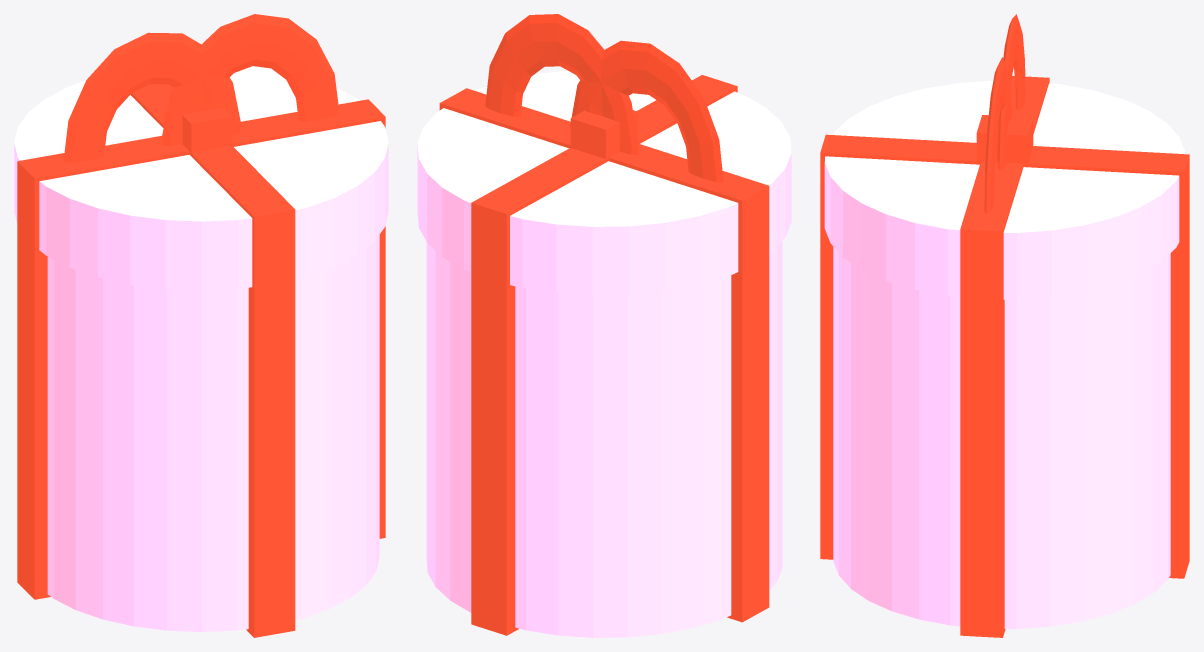
File: Tmpl_Round_Root_189.glb
The picture shows the model from 3 angles, left to right: view 1: azimuth 30°, elevation 25°; view 2: azimuth 150°, elevation 25°; view 3: azimuth 270°, elevation 25°; orthographic projection. The views are drawn at different scales.
Visible parts, largest first — view 1: Tmpl_Round_Base.187, Tmpl_Round_Lid.187, Tmpl_Round_Ribbon_Y.187, Tmpl_Round_Ribbon_X.187, Tmpl_Round_BowR.187, Tmpl_Round_BowL.187, Tmpl_Round_BowKnot.187; view 2: Tmpl_Round_Base.187, Tmpl_Round_Lid.187, Tmpl_Round_Ribbon_Y.187, Tmpl_Round_Ribbon_X.187, Tmpl_Round_BowR.187, Tmpl_Round_BowL.187, Tmpl_Round_BowKnot.187; view 3: Tmpl_Round_Base.187, Tmpl_Round_Lid.187, Tmpl_Round_Ribbon_X.187, Tmpl_Round_Ribbon_Y.187, Tmpl_Round_BowL.187, Tmpl_Round_BowR.187, Tmpl_Round_BowKnot.187.
Boxes of the visible parts, x1,y1,x2,y2 form: Tmpl_Round_Base.187: (47, 235, 379, 631); Tmpl_Round_Lid.187: (14, 66, 388, 290); Tmpl_Round_Ribbon_Y.187: (130, 84, 295, 637); Tmpl_Round_Ribbon_X.187: (17, 99, 385, 599); Tmpl_Round_BowR.187: (162, 14, 339, 145); Tmpl_Round_BowL.187: (63, 32, 240, 163); Tmpl_Round_BowKnot.187: (182, 107, 232, 155); Tmpl_Round_Base.187: (426, 241, 782, 637); Tmpl_Round_Lid.187: (417, 70, 791, 295); Tmpl_Round_Ribbon_Y.187: (471, 75, 737, 635); Tmpl_Round_Ribbon_X.187: (439, 88, 769, 622); Tmpl_Round_BowR.187: (485, 14, 638, 155); Tmpl_Round_BowL.187: (570, 40, 723, 182); Tmpl_Round_BowKnot.187: (570, 110, 638, 158); Tmpl_Round_Base.187: (833, 247, 1170, 628); Tmpl_Round_Lid.187: (824, 80, 1185, 299); Tmpl_Round_Ribbon_X.187: (960, 75, 1049, 637); Tmpl_Round_Ribbon_Y.187: (820, 134, 1189, 578); Tmpl_Round_BowL.187: (997, 14, 1025, 170); Tmpl_Round_BowR.187: (984, 57, 1011, 213); Tmpl_Round_BowKnot.187: (976, 115, 1033, 167).
Bounding box in the file's own units: 0.9594 × 1.48 × 0.9594.
